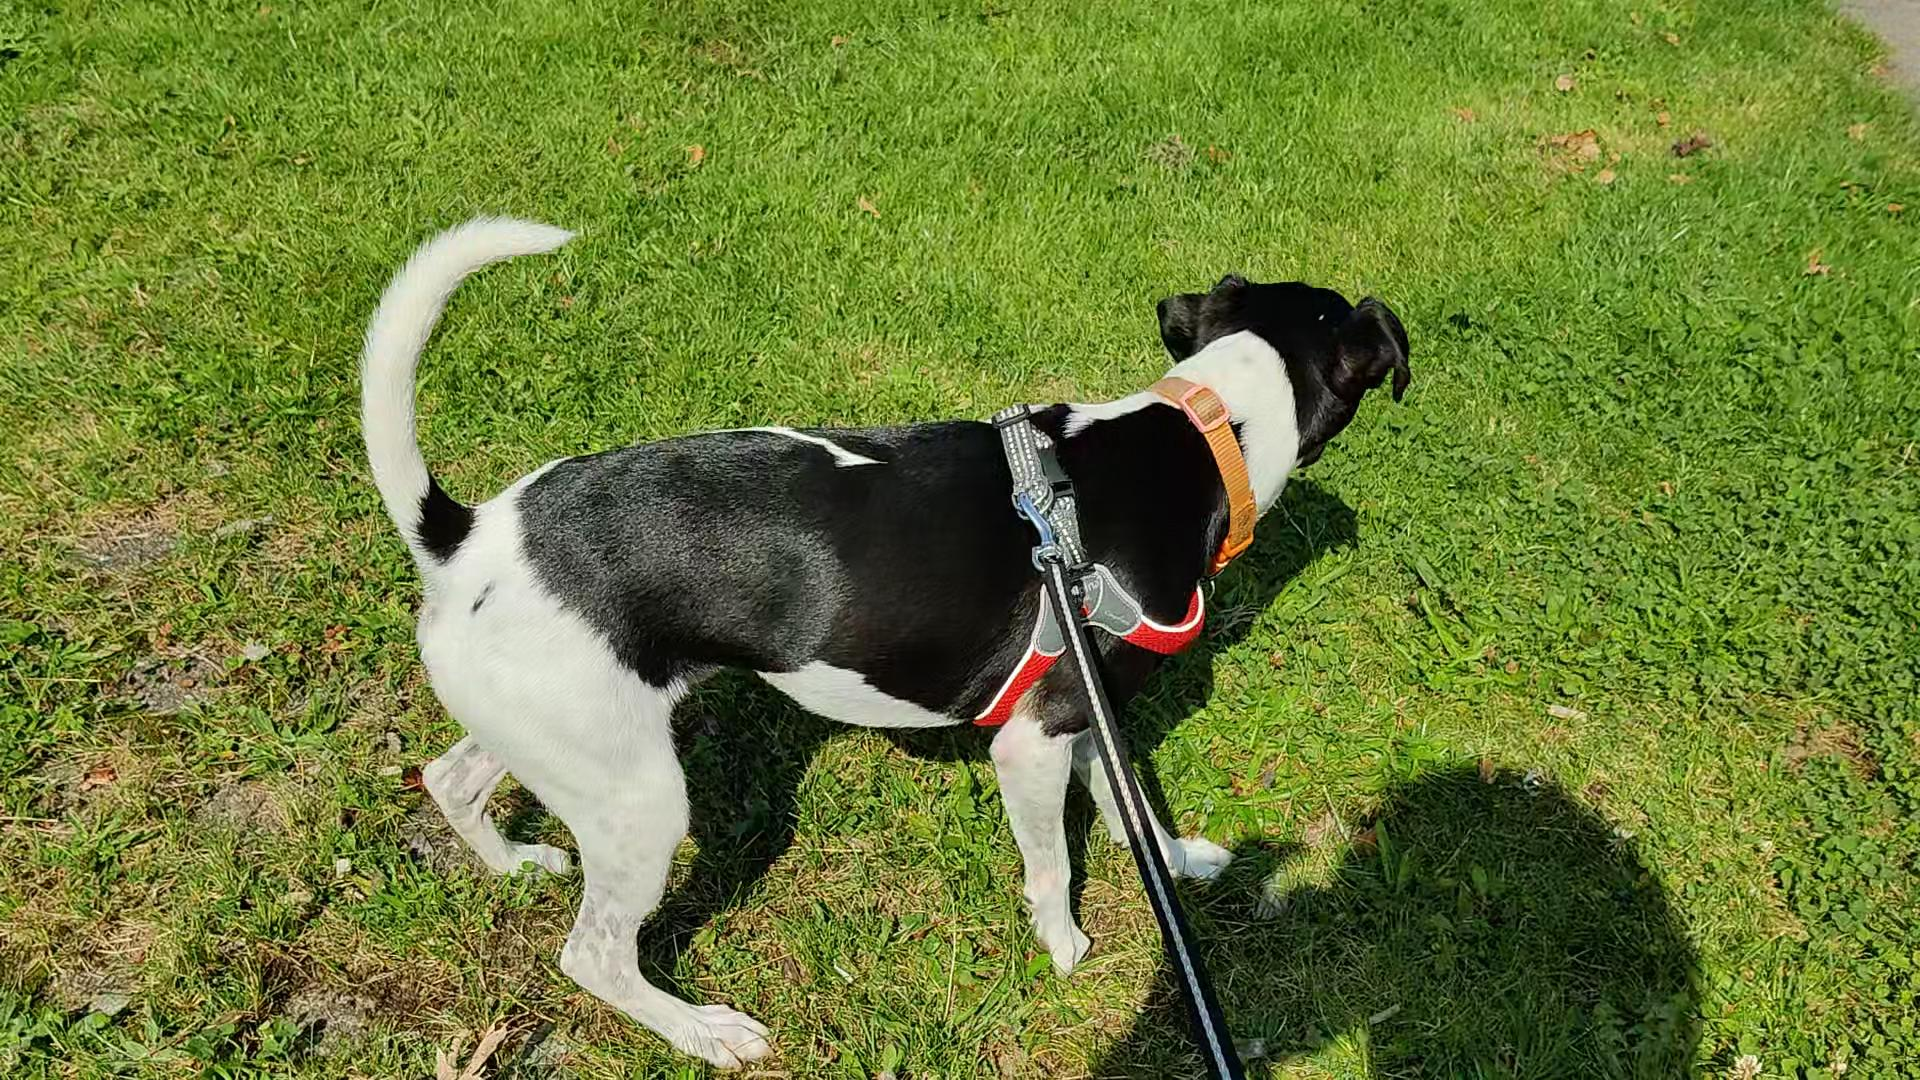Dog: (336, 175, 1432, 1079)
